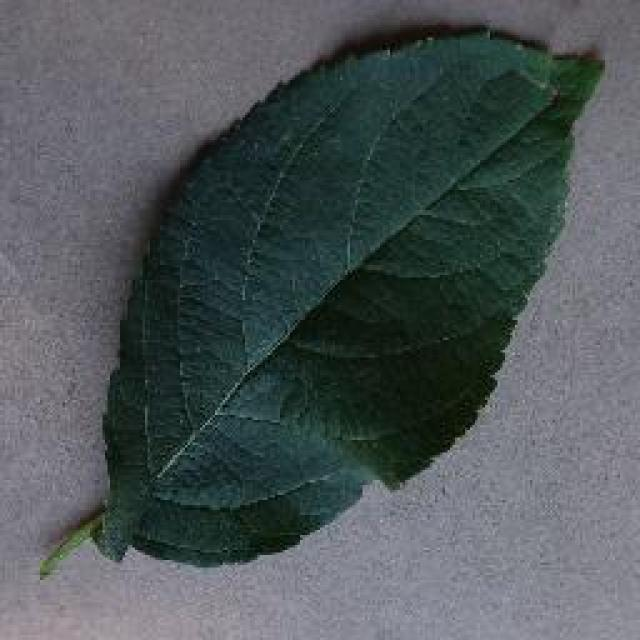apple healthy: (37, 20, 605, 580)
